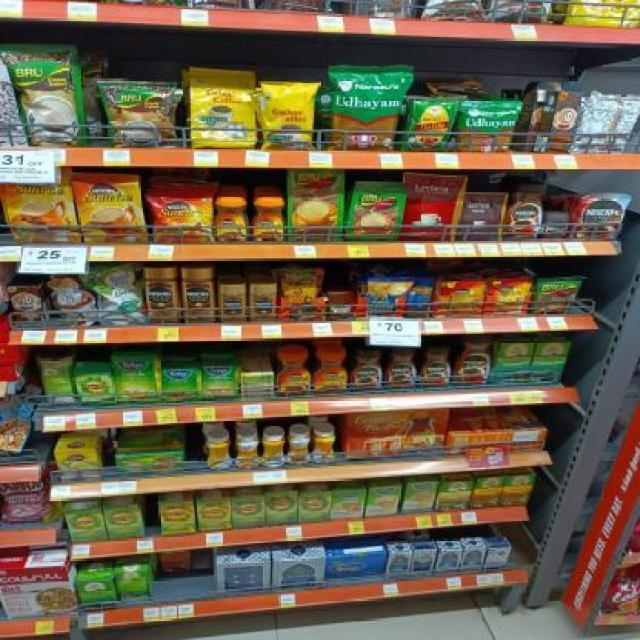Coffee: (4, 171, 78, 244), (76, 173, 142, 242), (151, 194, 211, 241), (506, 181, 546, 238), (144, 267, 180, 324), (456, 334, 494, 386), (580, 194, 624, 238), (184, 268, 217, 324), (213, 197, 248, 241), (251, 198, 285, 241), (314, 355, 351, 394), (277, 356, 312, 396), (421, 347, 455, 387), (387, 350, 421, 388), (352, 354, 384, 392), (219, 284, 248, 322), (249, 285, 276, 324), (544, 215, 571, 240)
